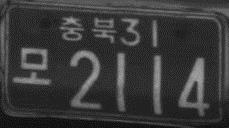1: (108, 52, 132, 111), (145, 55, 168, 115), (145, 19, 164, 47)
2: (68, 49, 102, 109)
3: (119, 16, 140, 46)
4: (177, 57, 210, 116)
모: (11, 46, 52, 85)
충북_O: (60, 15, 115, 43)
